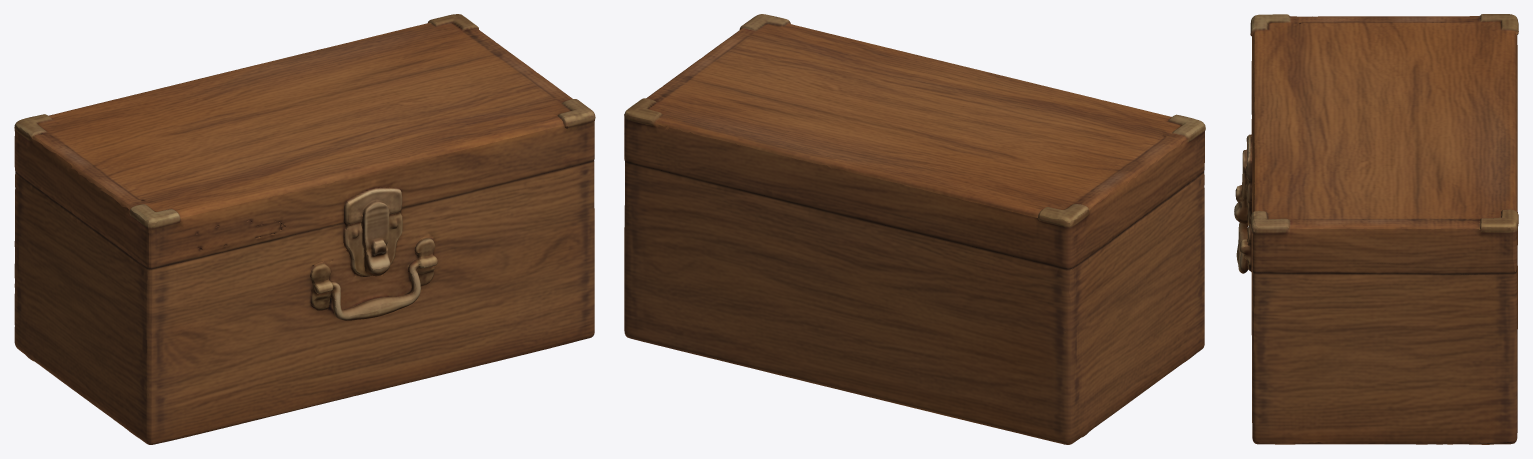
Rendered from chest-raw.glb.
3 views of the same model, side by side, from view 1: azimuth 30°, elevation 25°; view 2: azimuth 150°, elevation 25°; view 3: azimuth 270°, elevation 25° (orthographic). The views are drawn at different scales.
Visible parts, largest first — view 1: world; view 2: world; view 3: world.
Boxes of the visible parts, x1,y1,x2,y2 form: world: (14, 14, 595, 444); world: (624, 14, 1205, 444); world: (1234, 14, 1518, 444).
Bounding box in the file's own units: 0.35 × 0.1703 × 0.1973.
1 material, 1 textured.
